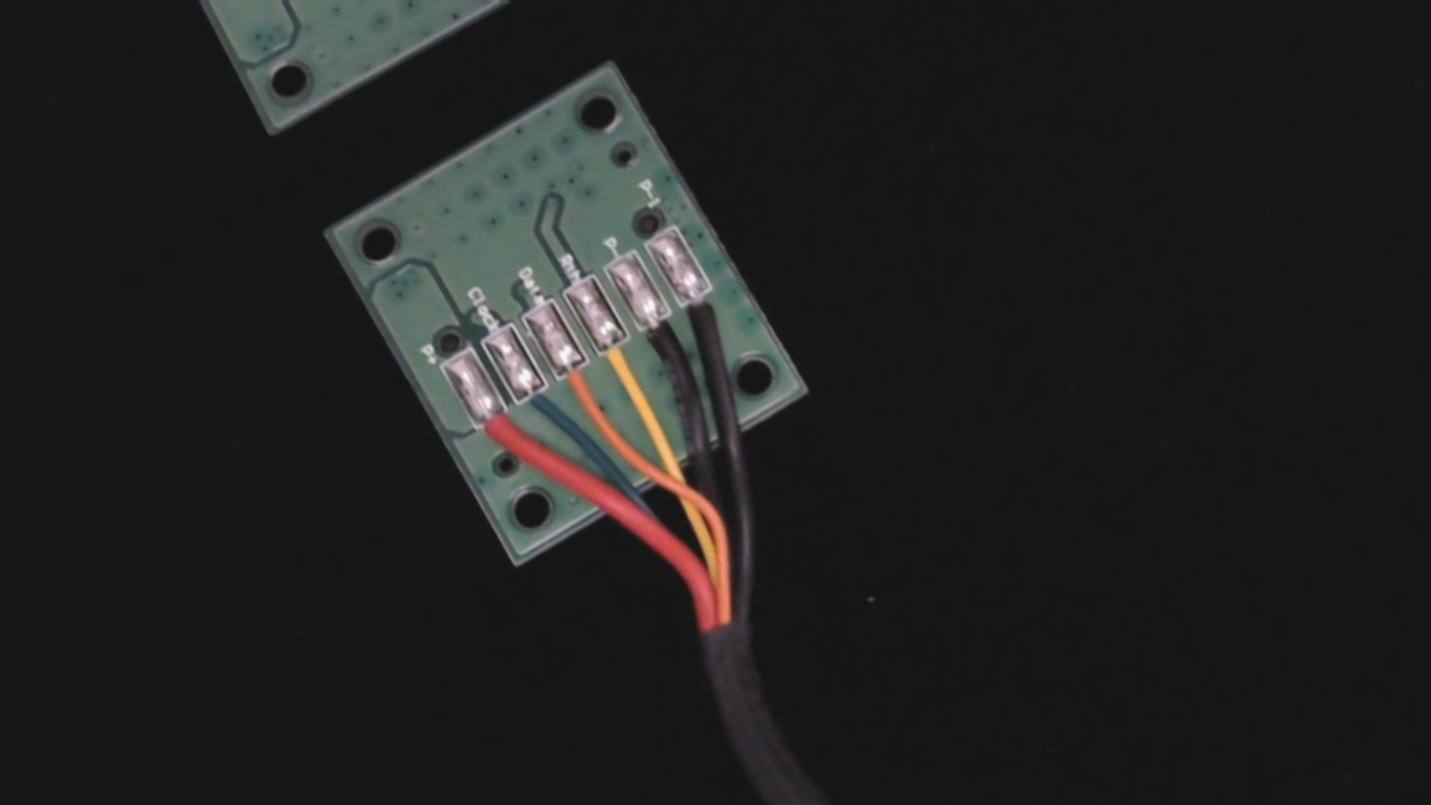Black: (625, 296, 701, 380)
Black1: (668, 273, 743, 357)
Green: (498, 362, 577, 449)
Orange: (543, 343, 619, 428)
Red: (459, 389, 535, 472)
Yellow: (585, 320, 661, 407)
